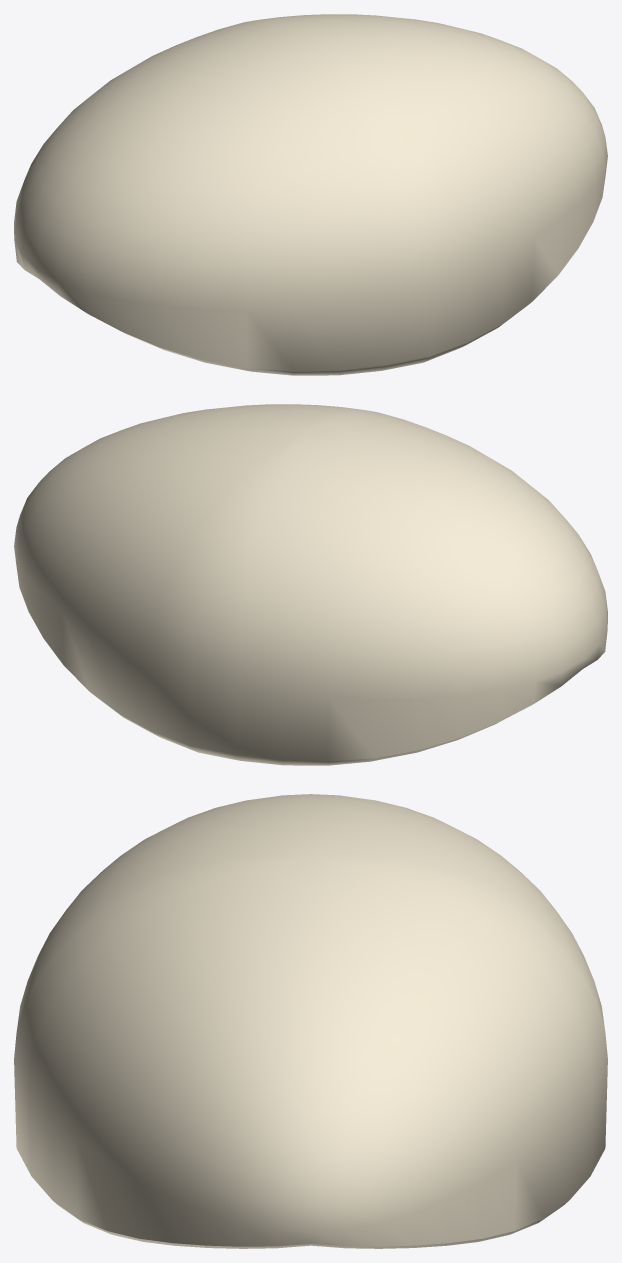
Rendered from cowrie_a1.glb.
3 renders of one model, top to bottom at view 1: azimuth 30°, elevation 25°; view 2: azimuth 150°, elevation 25°; view 3: azimuth 270°, elevation 25°, orthographic. The views are drawn at different scales.
Parts seen in each view (by area): view 1: cowrie_a1; view 2: cowrie_a1; view 3: cowrie_a1.
Part boxes in pixels (x1,y1,x2,y2): cowrie_a1: (14, 14, 607, 375); cowrie_a1: (14, 404, 607, 765); cowrie_a1: (14, 794, 607, 1248).
Bounding box in the file's own units: 0.0233 × 0.0101 × 0.0169.
